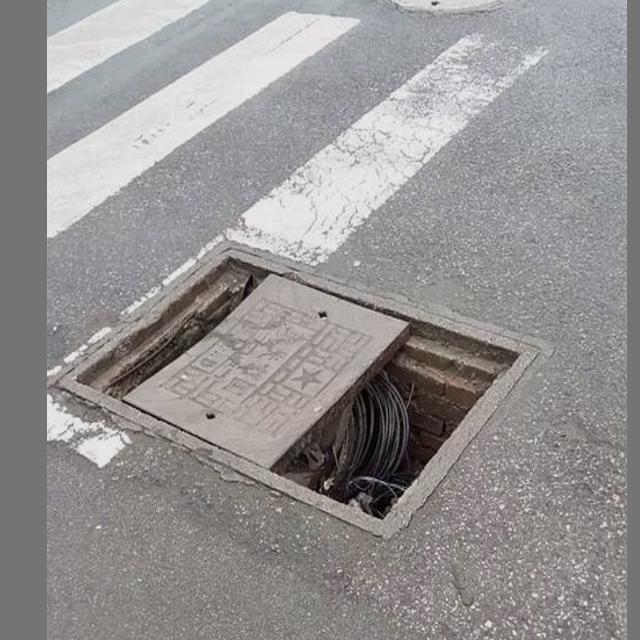lose: (53, 217, 545, 554)
